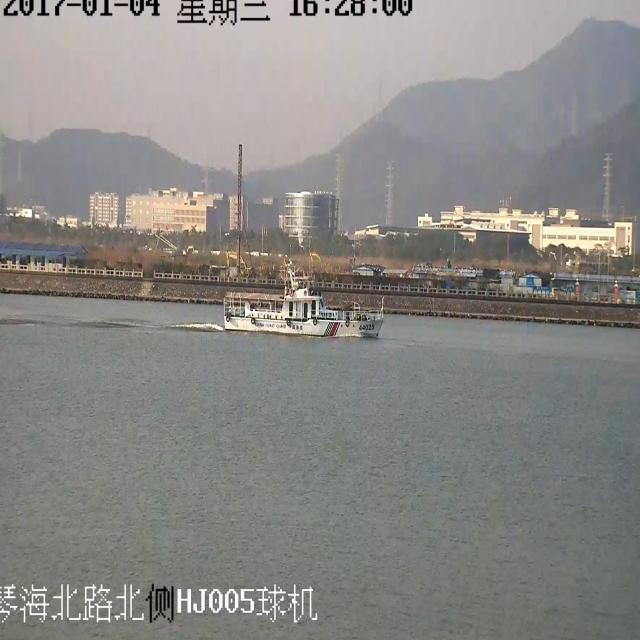houseboat: (213, 265, 390, 354)
